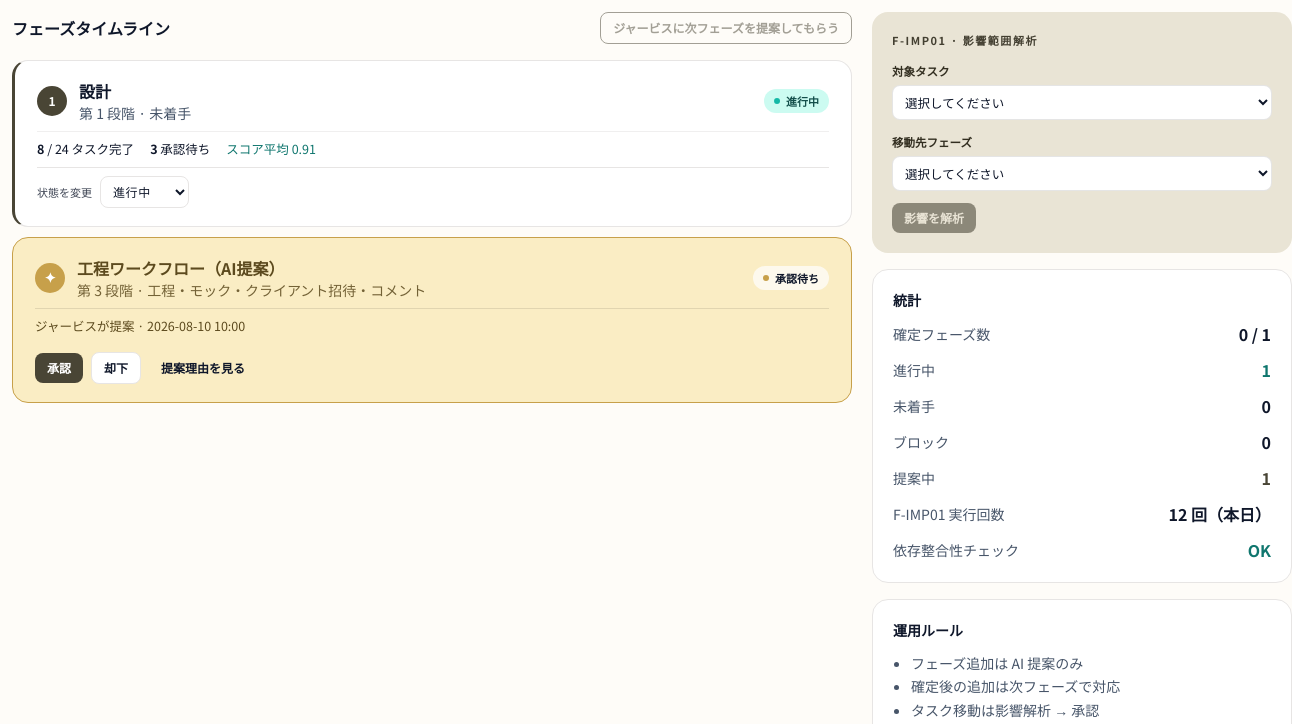
Test case: S-F02 GAP-022 (AI 提案フェーズ + F-IMP01 + 集計) › rejects a pending proposal without creating a phase
The image size is (1292, 724).
Click the button "却下" at point(116, 368), box [91,352,141,384]
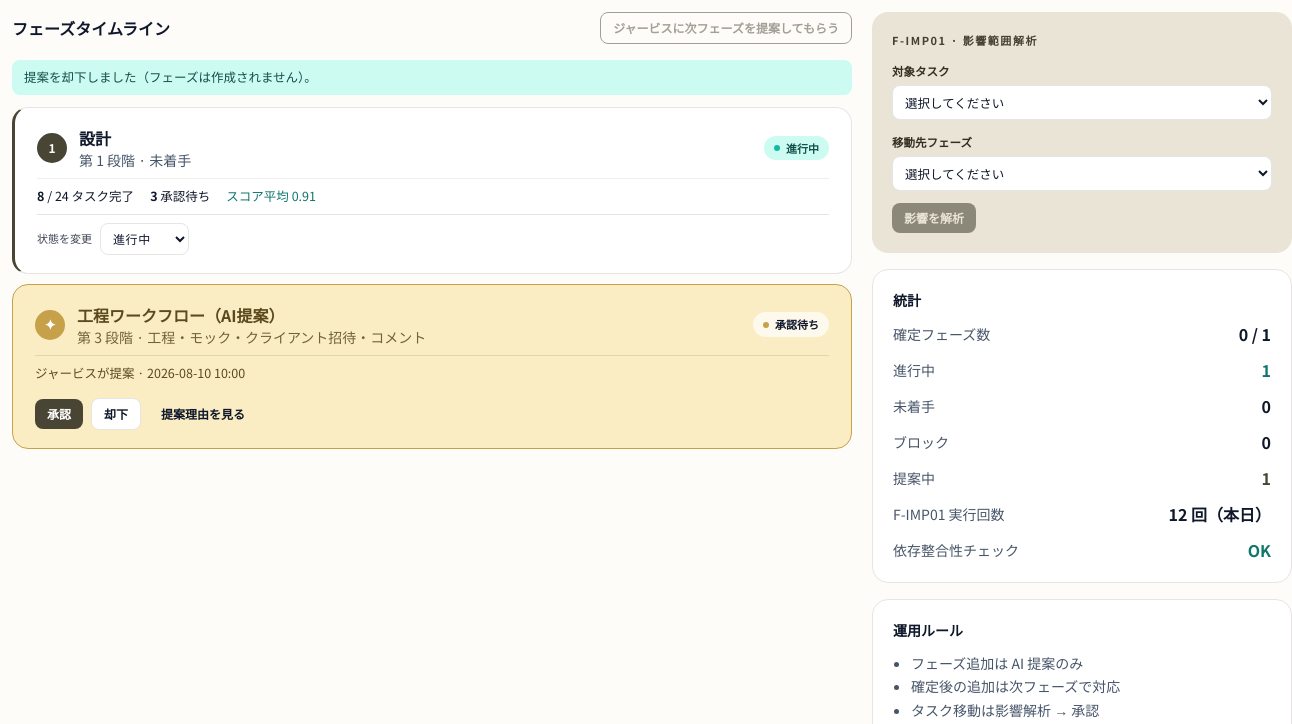
Expected: the text "提案を却下しました（フェーズは作成されません）。" is shown, [12,60,852,95]
